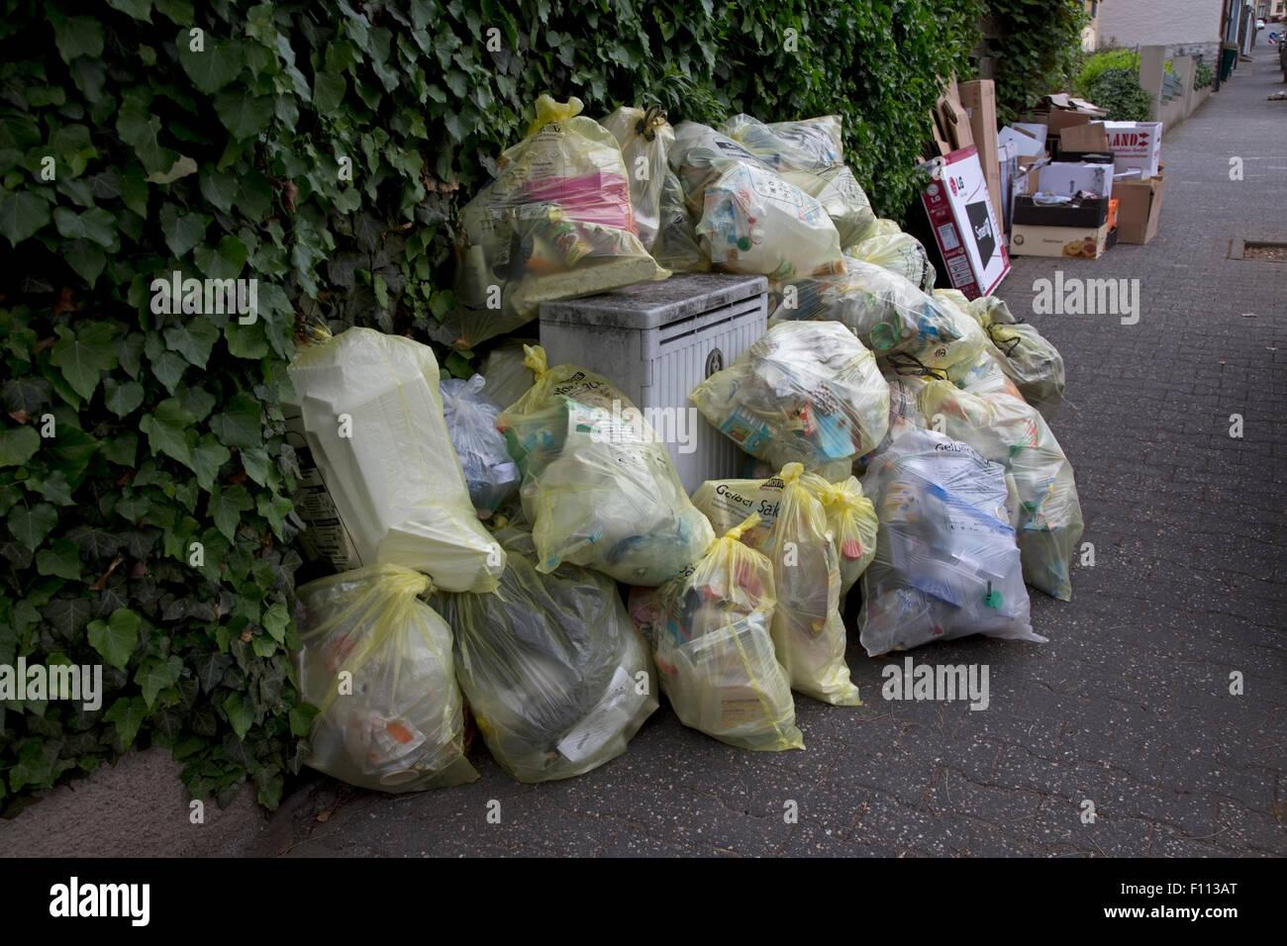road: (287, 43, 1287, 856)
trash: (289, 327, 505, 592), (457, 95, 669, 344), (430, 553, 659, 783), (498, 347, 714, 585), (857, 430, 1046, 655), (297, 563, 478, 791), (917, 379, 1083, 600), (654, 515, 804, 751), (691, 322, 890, 479), (772, 256, 985, 372), (772, 462, 860, 706), (656, 613, 804, 751), (696, 163, 845, 279), (669, 121, 772, 220), (603, 106, 674, 249), (799, 472, 877, 597), (782, 167, 877, 249), (691, 475, 784, 553), (845, 219, 935, 294), (651, 168, 711, 271), (769, 116, 845, 166), (862, 219, 902, 240)
